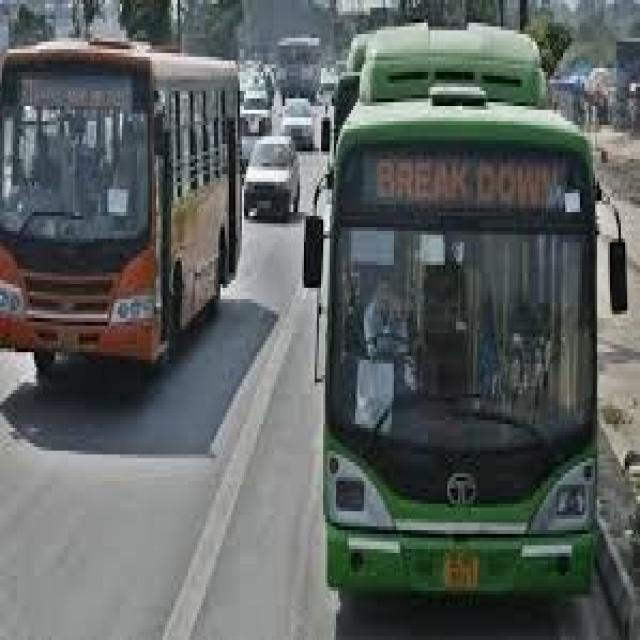bus: (304, 19, 630, 633), (0, 24, 255, 389)
